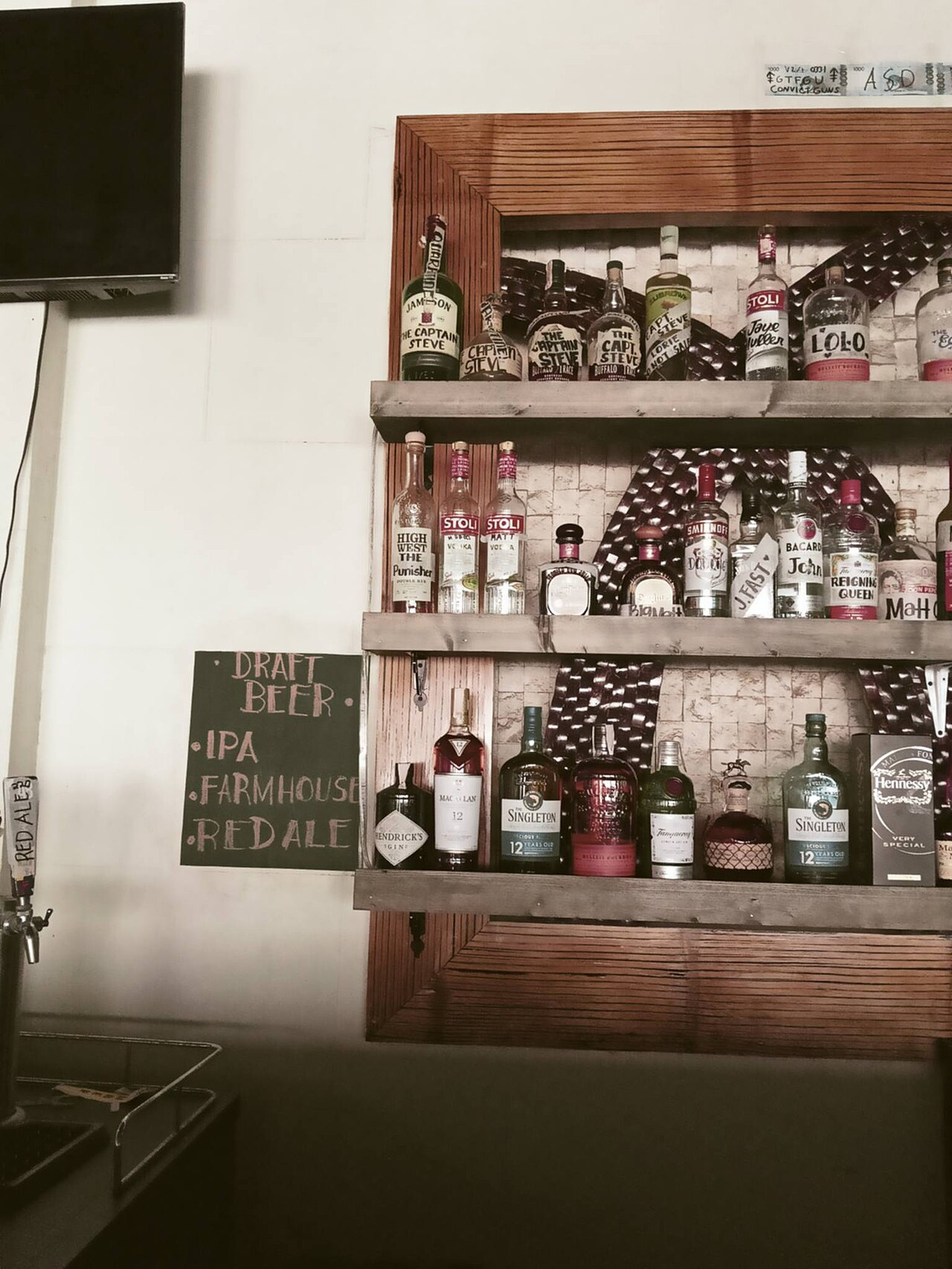hendricks: (373, 759, 429, 873)
tanquerayten: (643, 740, 697, 880)
unknown_bottle: (495, 705, 565, 875), (782, 713, 851, 884), (399, 214, 466, 381), (571, 721, 640, 877), (432, 688, 488, 871), (388, 433, 438, 614), (773, 451, 826, 619), (802, 262, 872, 383), (823, 480, 881, 622), (701, 775, 774, 883), (482, 441, 527, 616), (524, 260, 589, 381), (437, 442, 481, 615), (644, 226, 693, 381), (683, 463, 731, 619), (743, 224, 789, 381), (588, 259, 645, 381), (878, 506, 937, 622), (537, 521, 596, 619), (461, 294, 524, 384), (730, 494, 774, 619), (620, 525, 677, 617)
